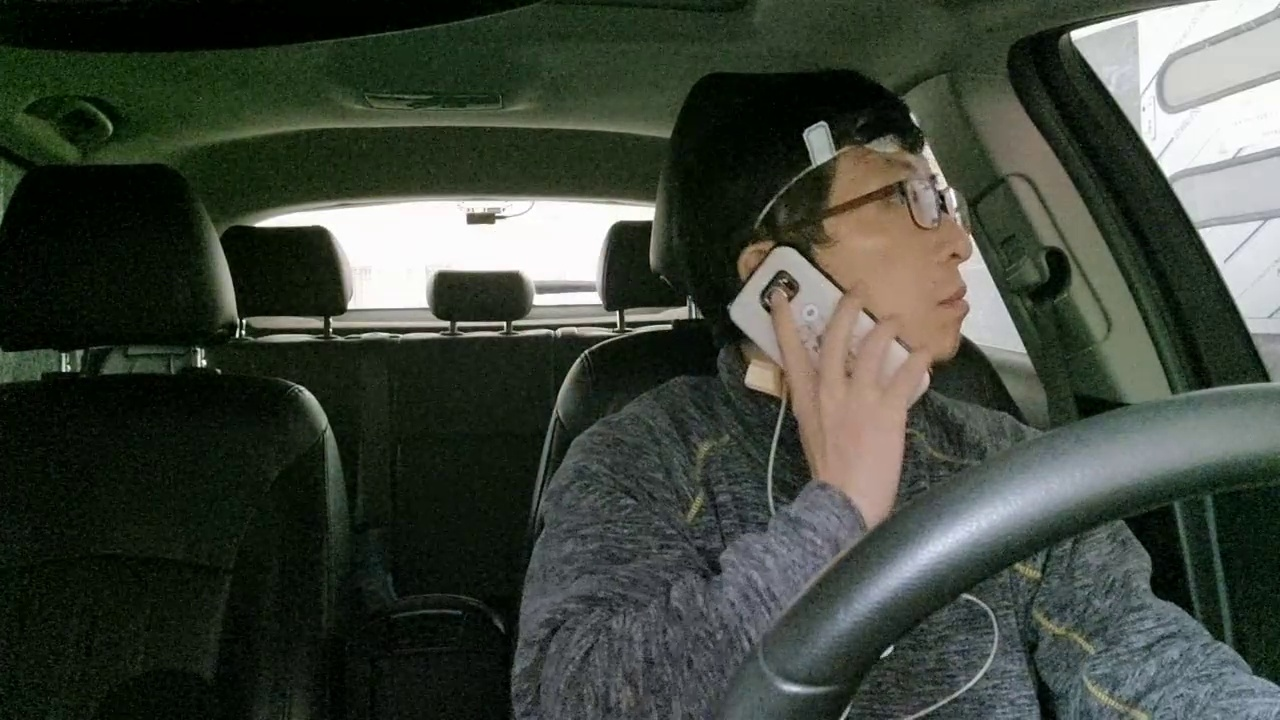phone: (689, 208, 947, 460)
